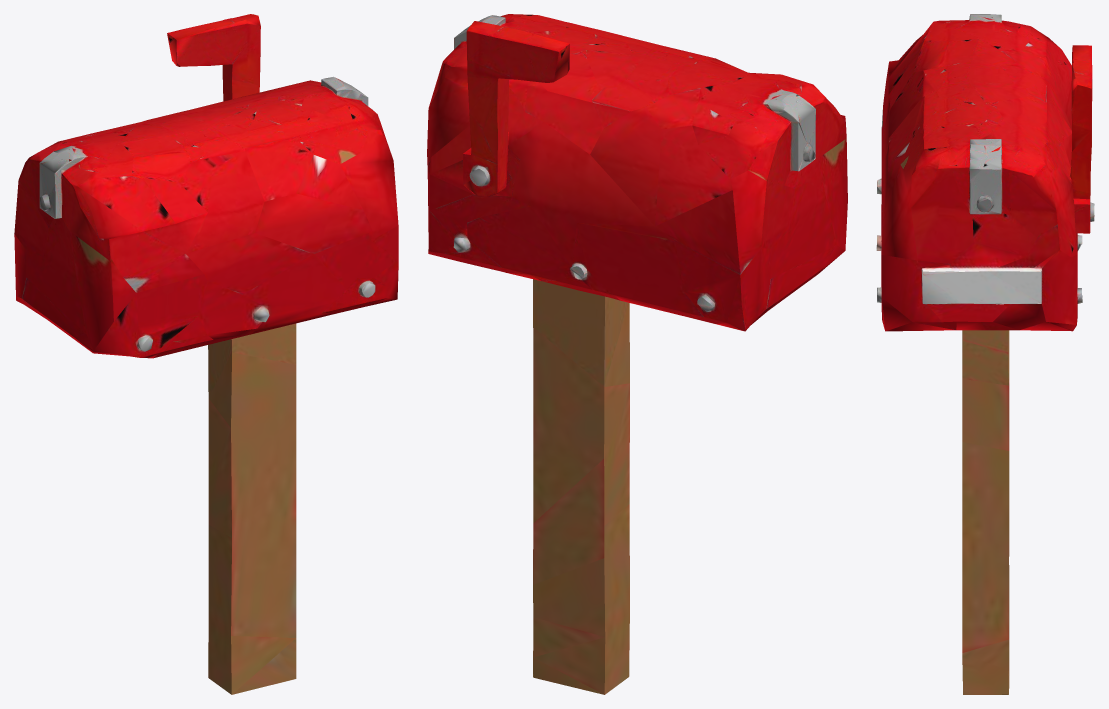
File: street-mailbox.glb
The picture shows the model from 3 angles, left to right: view 1: azimuth 30°, elevation 25°; view 2: azimuth 150°, elevation 25°; view 3: azimuth 270°, elevation 25°; orthographic projection. The views are drawn at different scales.
Parts seen in each view (by area): view 1: output_unwrapped; view 2: output_unwrapped; view 3: output_unwrapped.
Boxes of the visible parts, left/top/right/bottom form: output_unwrapped: left=14, top=14, right=398, bottom=694; output_unwrapped: left=427, top=14, right=847, bottom=694; output_unwrapped: left=876, top=14, right=1094, bottom=694.
Size of the model in its own units: 1.04 by 1.9 by 0.6066.
Materials: 1 (1 with a texture image).
